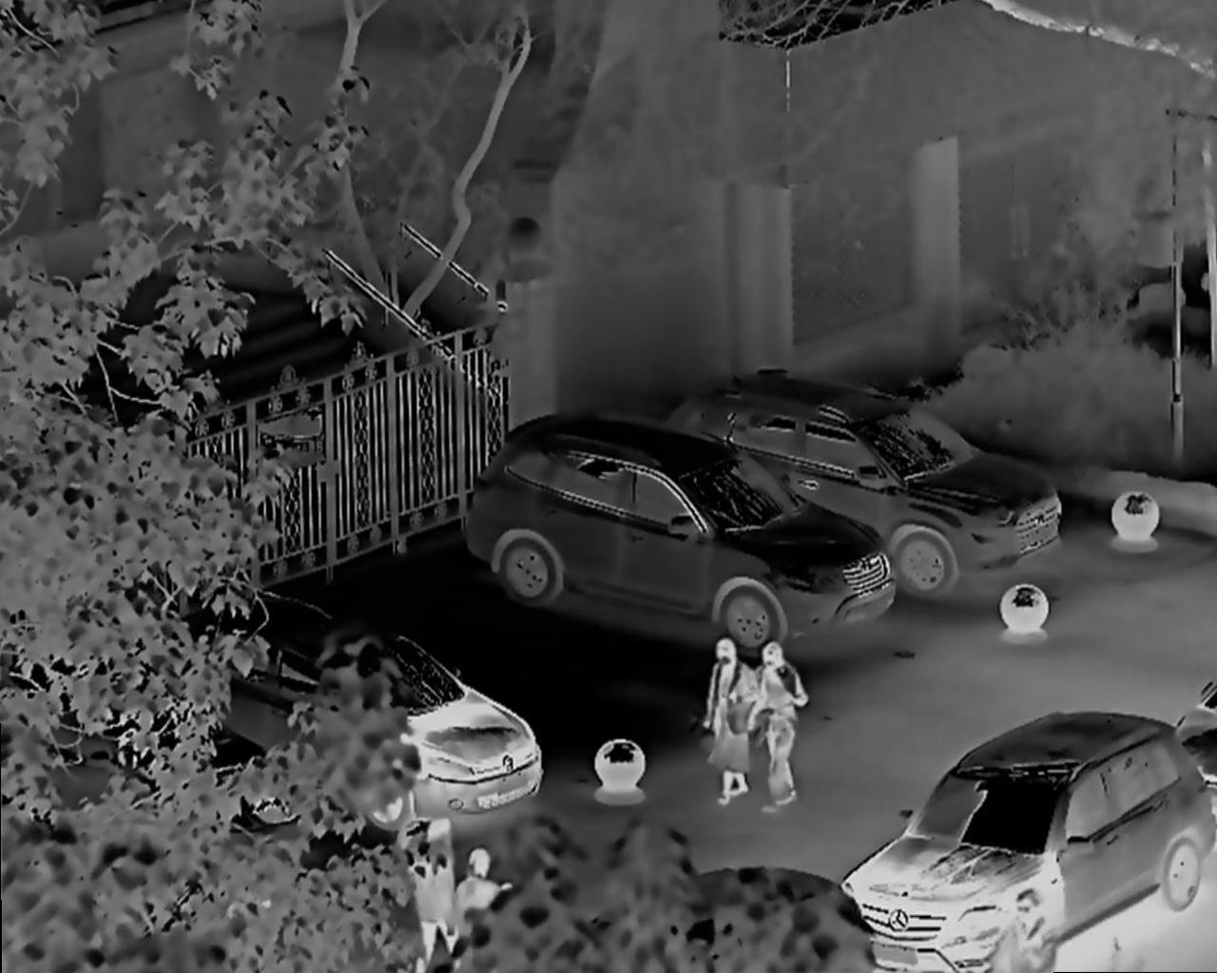person: (754, 646, 821, 818), (698, 635, 762, 809), (411, 818, 466, 972), (455, 837, 512, 933)
